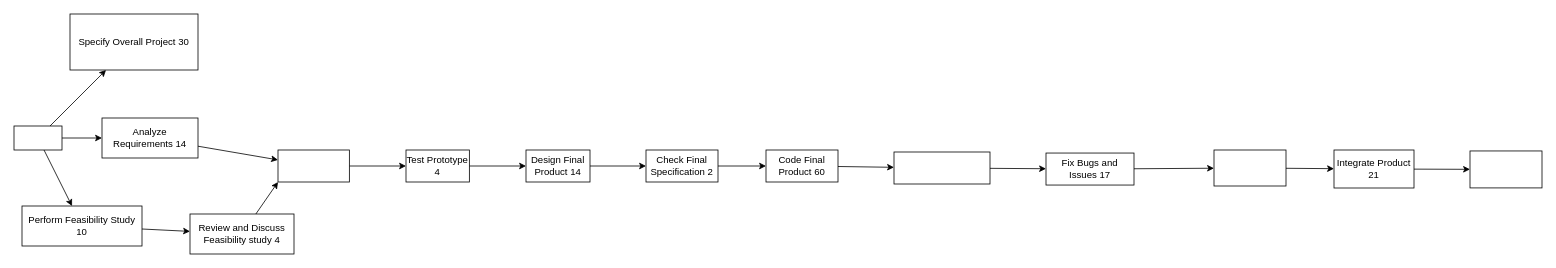
Image size: 1556x268. Some labels were removed from this diagram. The shapes that lost their labels are listed below. From the top down, each one's box as (x1, y1, x2, y2) in pixels, then its label:
(13, 125, 62, 150): Start
(277, 149, 349, 182): Develop Prototype 20
(893, 151, 990, 184): Test final Product 7
(1213, 149, 1286, 186): Document Final Product 14
(1469, 150, 1542, 188): Release Final Product 1
